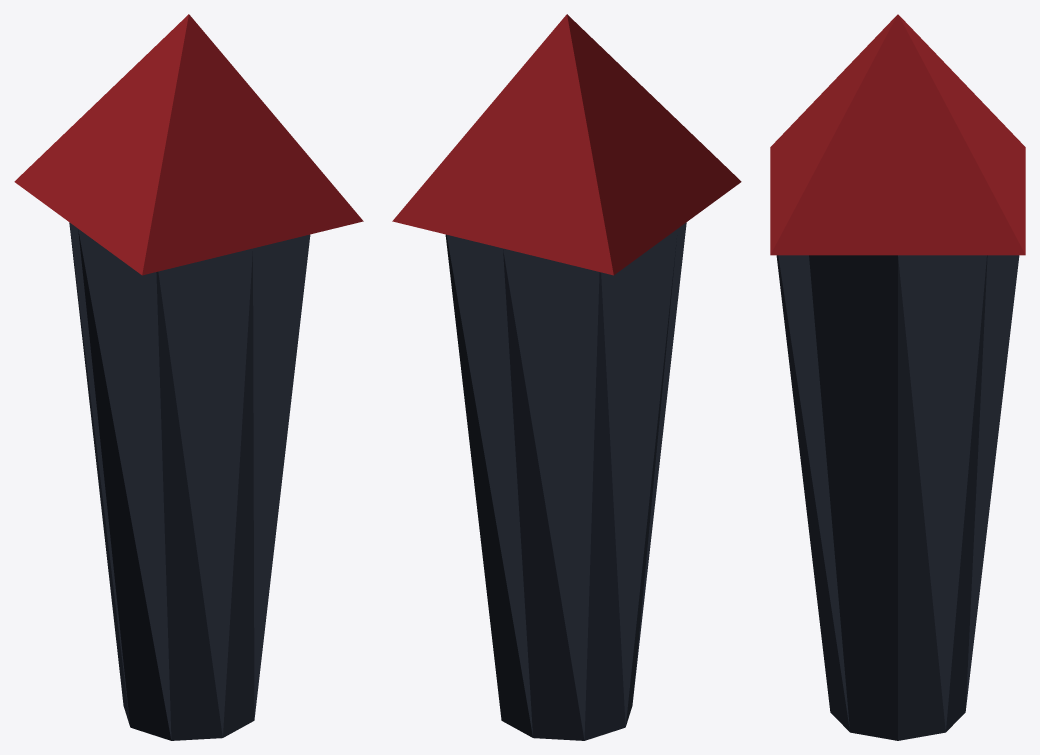
File: stalker.obj
3 views of the same model, side by side, from view 1: azimuth 30°, elevation 25°; view 2: azimuth 150°, elevation 25°; view 3: azimuth 270°, elevation 25° (orthographic).
Parts seen in each view (by area): view 1: stalker_body, stalker_hood; view 2: stalker_body, stalker_hood; view 3: stalker_body, stalker_hood.
Part boxes in pixels (left/top/right/bottom): stalker_body: left=69, top=222, right=310, bottom=740; stalker_hood: left=14, top=14, right=363, bottom=275; stalker_body: left=445, top=222, right=686, bottom=740; stalker_hood: left=392, top=14, right=741, bottom=275; stalker_body: left=776, top=255, right=1019, bottom=740; stalker_hood: left=770, top=14, right=1025, bottom=255.
Size of the model in its own units: 0.68 by 2.05 by 0.68.
